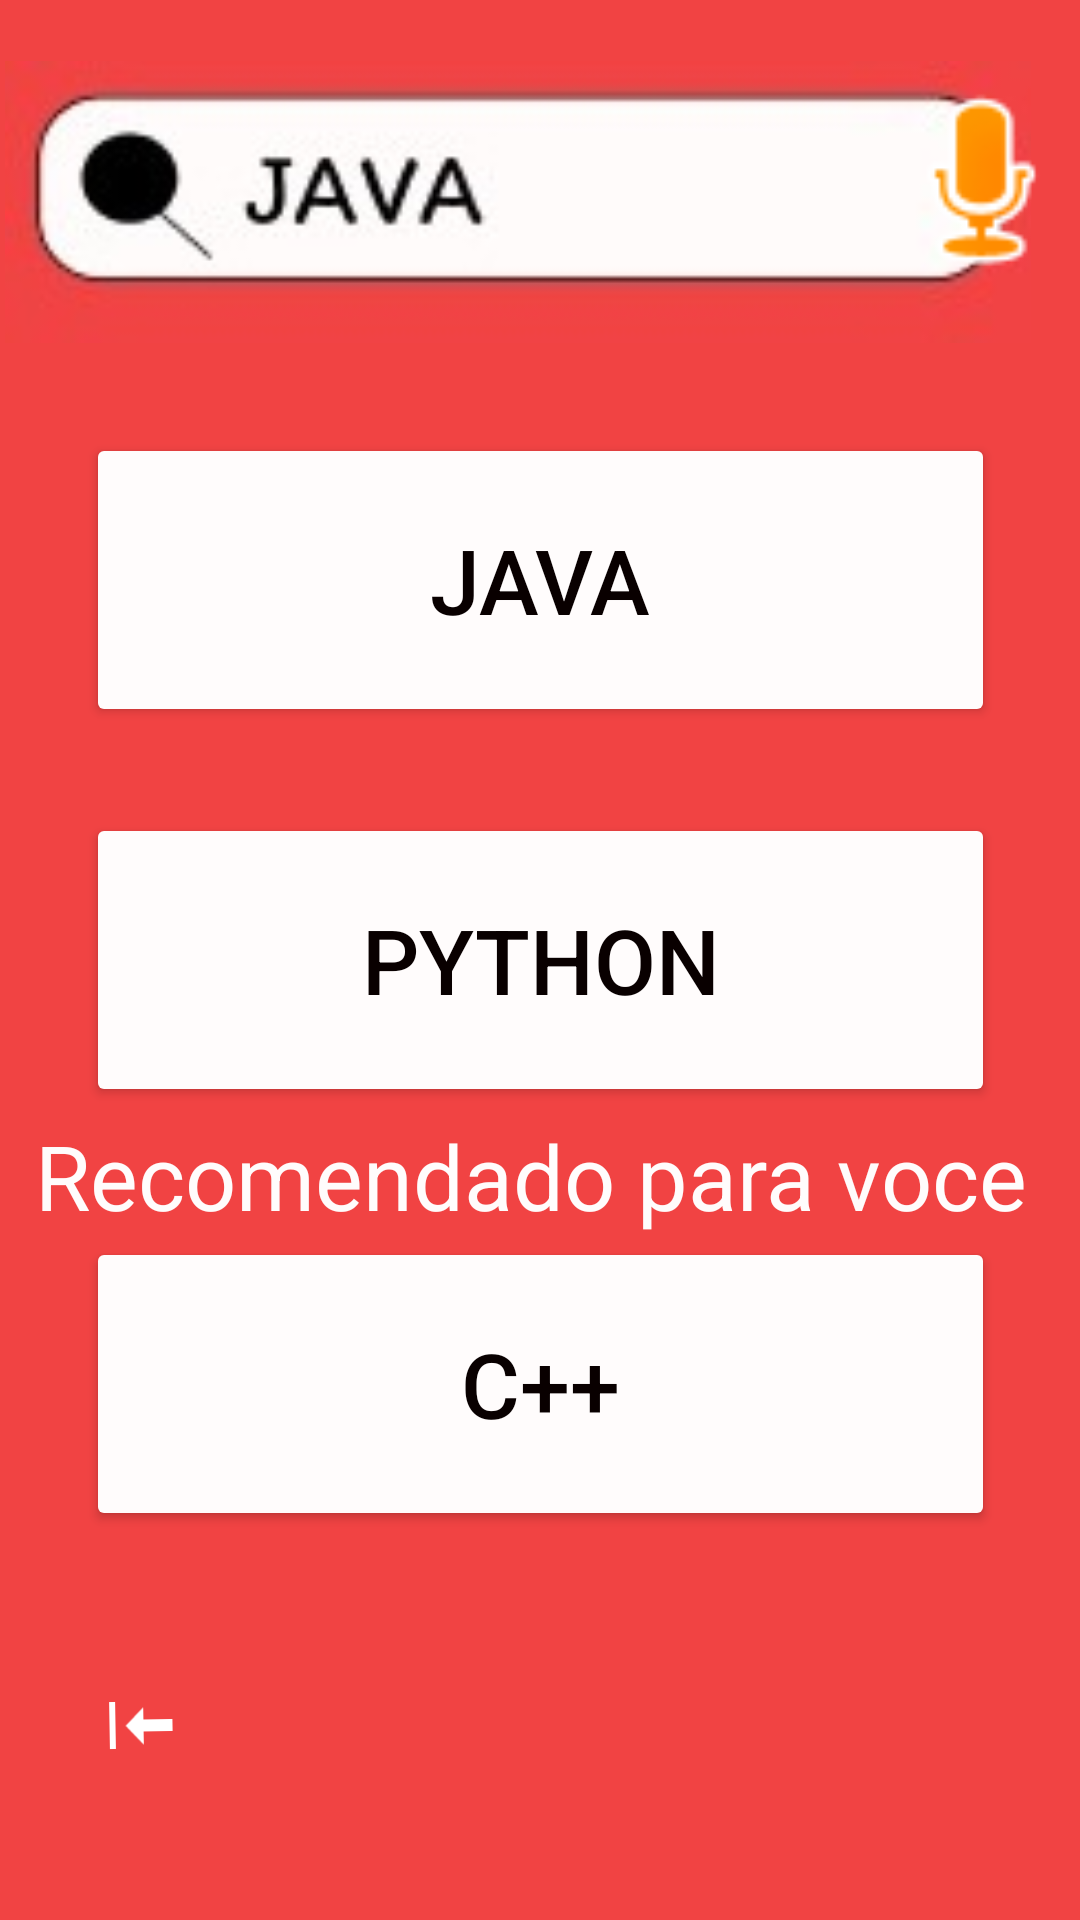

Named icons in this screenshot (1080×1920) and their centers, point (x, y):
presence audio away: point (981, 182)
